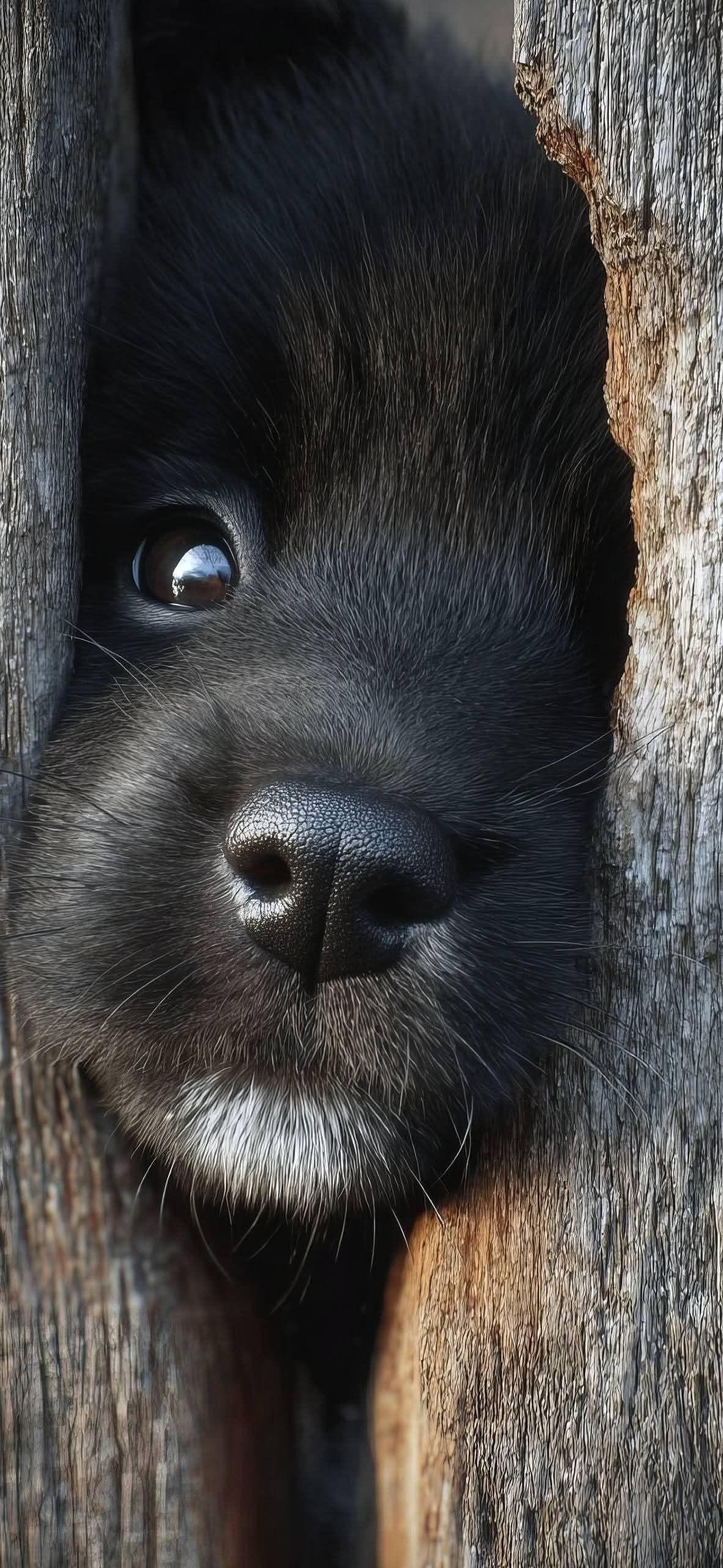puppy-dog: (4, 1, 640, 1568)
